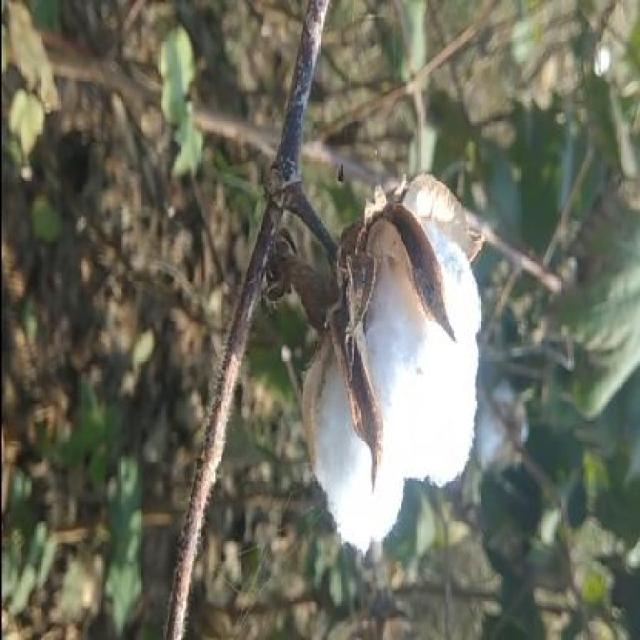cotton_ready: (252, 164, 492, 548)
